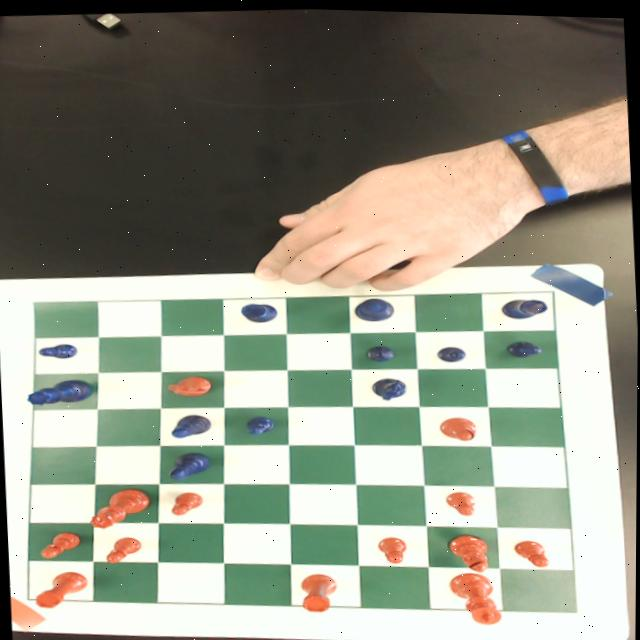B: (167, 450, 213, 480), (168, 413, 212, 438)
K: (353, 294, 396, 321)
N: (371, 375, 408, 400)
P: (35, 341, 79, 360), (506, 336, 543, 356), (244, 413, 275, 435), (364, 342, 396, 362), (435, 342, 467, 361)
Q: (26, 378, 94, 407)
R: (500, 294, 547, 317), (239, 300, 278, 323)
b: (447, 529, 496, 572), (438, 414, 478, 441)
k: (447, 569, 503, 624)
n: (166, 374, 213, 397)
p: (39, 530, 82, 559), (104, 535, 143, 564), (512, 536, 549, 565), (169, 489, 204, 516), (377, 533, 408, 563), (443, 487, 476, 515)
q: (87, 486, 152, 530)
r: (32, 568, 90, 610), (295, 570, 340, 613)
